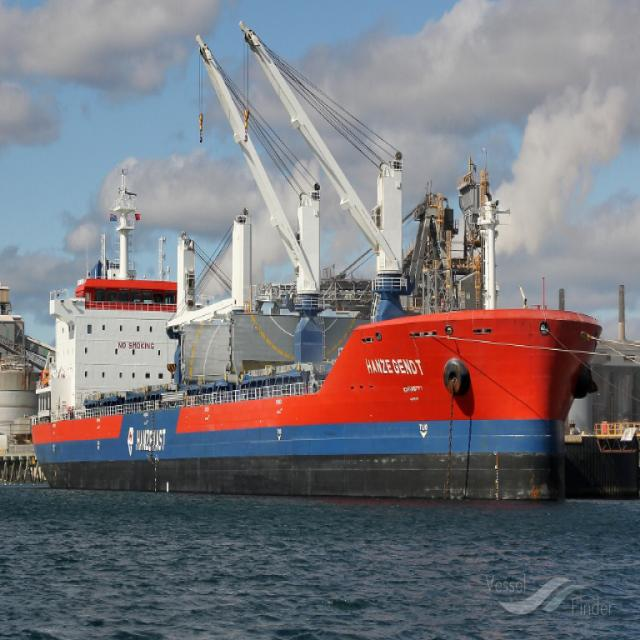OCR: (360, 346, 430, 386), (132, 421, 170, 458)
